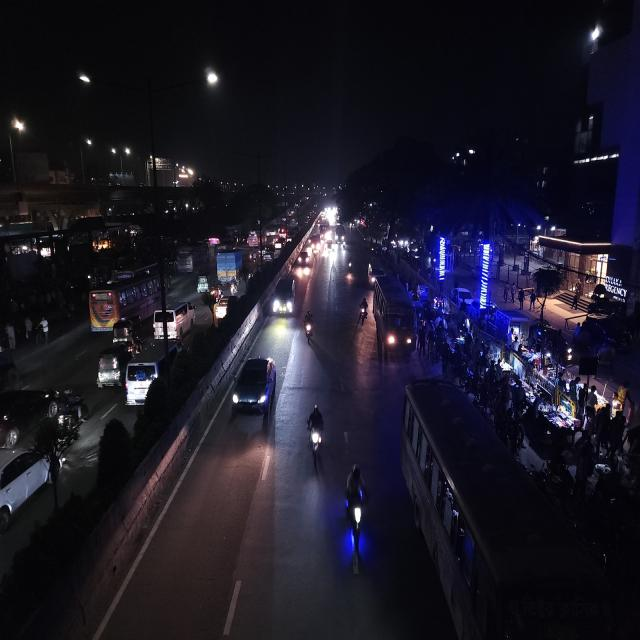bus: (396, 380, 620, 640), (86, 263, 164, 333), (371, 273, 415, 364), (175, 240, 209, 273)
car: (0, 442, 68, 538), (0, 385, 54, 452), (231, 352, 279, 422), (151, 296, 197, 343), (122, 356, 161, 410), (272, 273, 298, 320), (110, 313, 140, 342), (212, 294, 239, 325), (297, 247, 311, 269), (309, 235, 322, 254), (263, 248, 275, 263)
cng: (42, 387, 86, 451), (94, 343, 127, 390), (195, 270, 211, 296)
motorcycle: (341, 460, 369, 550), (304, 401, 328, 467), (302, 307, 316, 346), (357, 294, 369, 329), (344, 256, 354, 285)
pedestrian: (2, 319, 18, 353), (36, 316, 50, 344), (23, 316, 34, 344)
truck: (215, 247, 245, 288)
